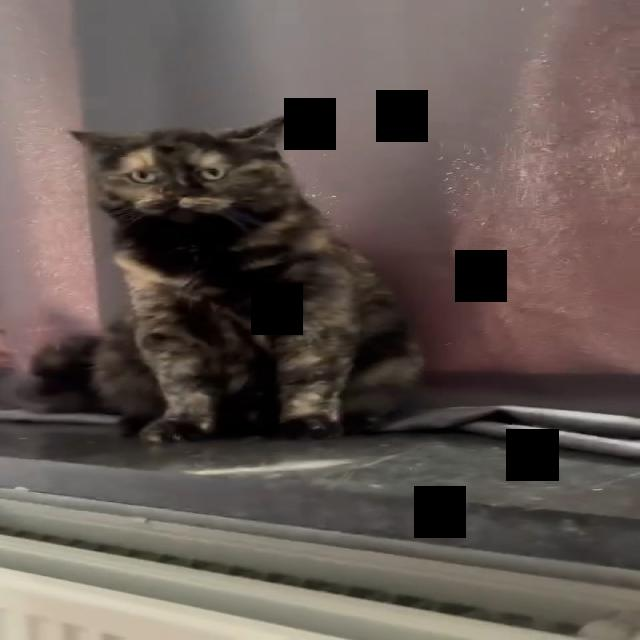authorized: (32, 111, 425, 444)
